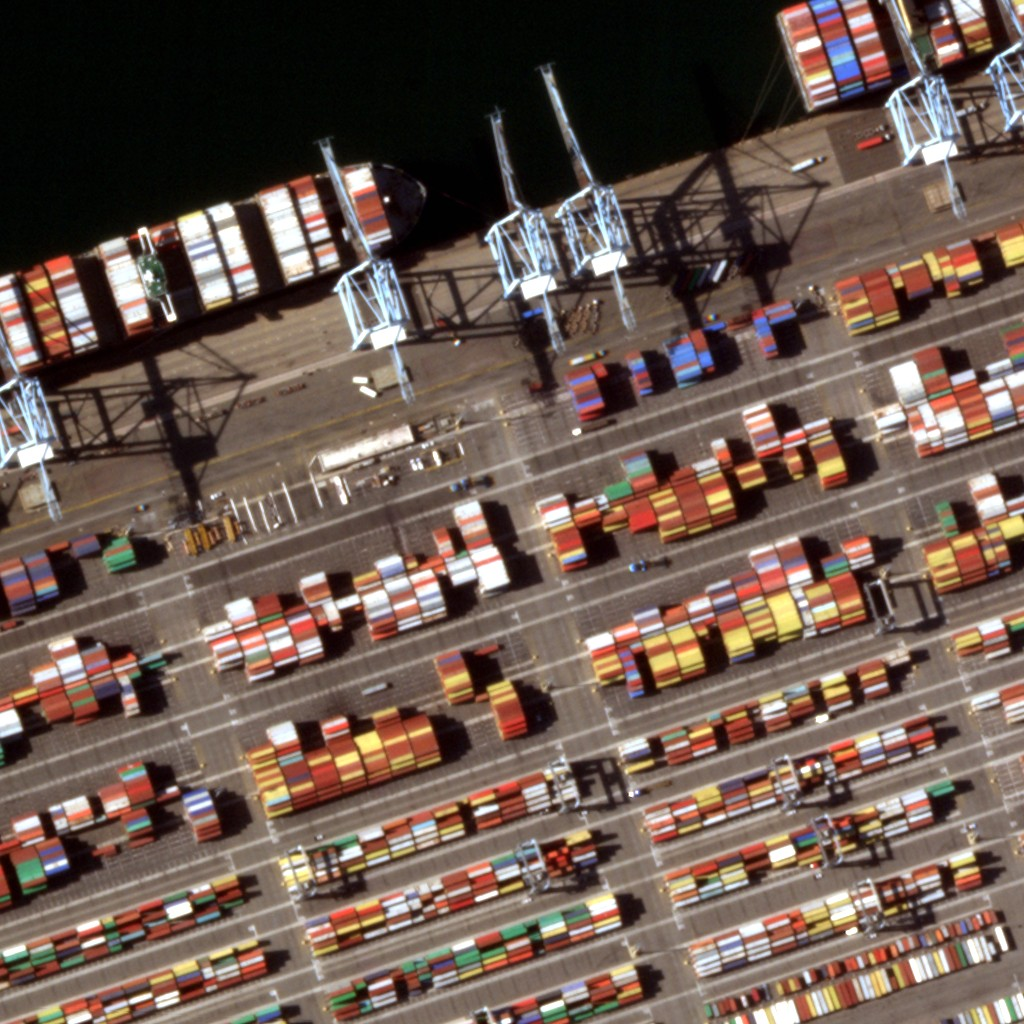boats: (0, 152, 427, 397), (772, 0, 1023, 126)
cranes: (552, 80, 640, 289), (328, 144, 411, 363), (0, 338, 70, 512), (502, 134, 566, 313), (896, 24, 974, 169)
